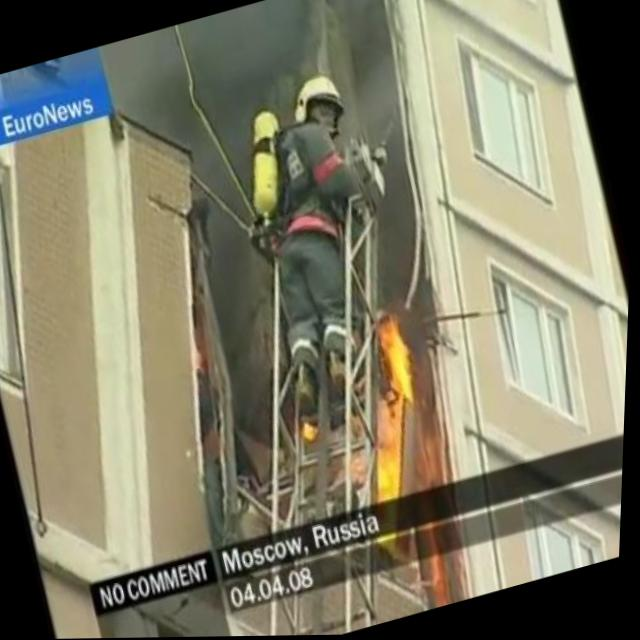fire: (340, 291, 470, 510), (301, 416, 324, 441)
